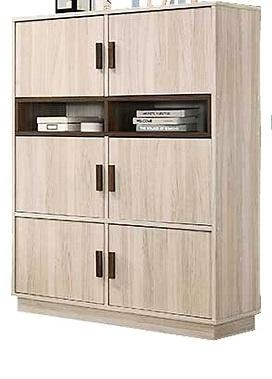cabinet_door: (216, 3, 261, 326), (109, 226, 214, 316), (110, 138, 214, 221), (110, 17, 216, 95), (14, 221, 105, 303), (15, 137, 107, 217), (16, 17, 106, 97), (107, 96, 211, 137)
handle: (108, 161, 119, 196), (108, 37, 119, 72), (95, 160, 106, 194), (93, 40, 103, 73), (95, 248, 105, 280), (109, 249, 118, 283)
